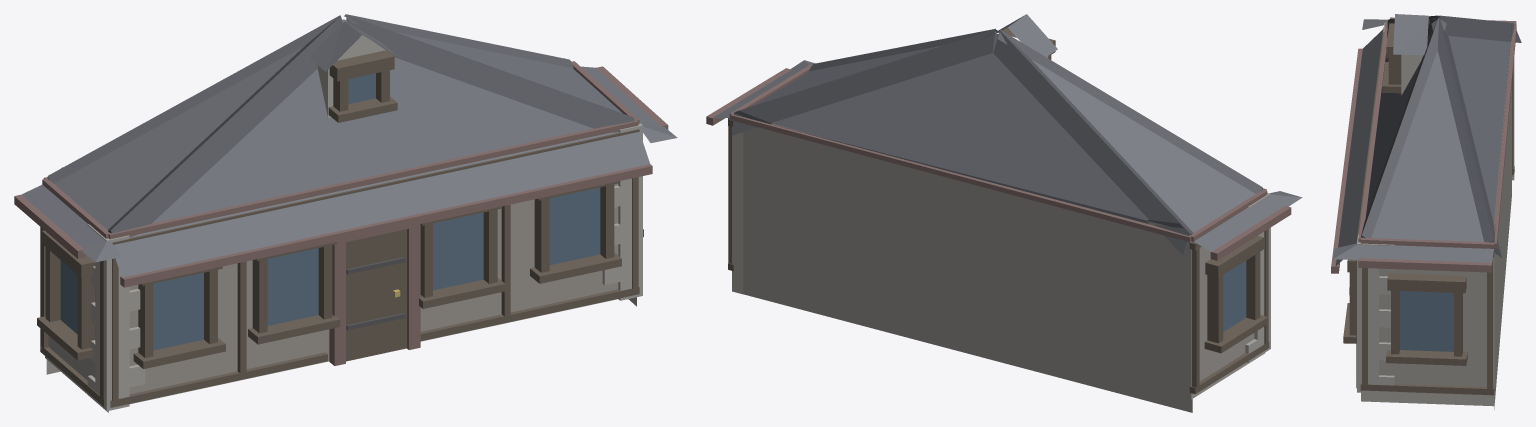
The model's file is b051_closed.glb.
3 renders of one model, left to right at view 1: azimuth 30°, elevation 25°; view 2: azimuth 150°, elevation 25°; view 3: azimuth 270°, elevation 25°, orthographic. The views are drawn at different scales.
Visible parts, largest first — view 1: B051_visible; view 2: B051_visible; view 3: B051_visible.
Part boxes in pixels (box(x1,y1,x2,y2)): B051_visible: box(14, 14, 677, 412); B051_visible: box(706, 14, 1302, 412); B051_visible: box(1331, 14, 1521, 409).
Size of the model in its own units: 11.45 by 6.15 by 3.72.
